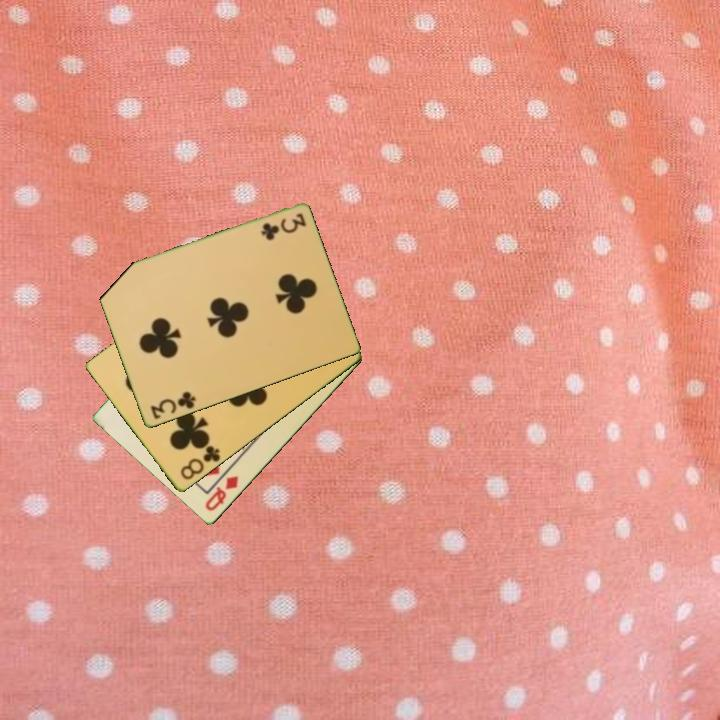3c: (147, 388, 199, 422), (257, 210, 309, 242)
8c: (177, 440, 223, 483)
Qd: (202, 473, 242, 514)
